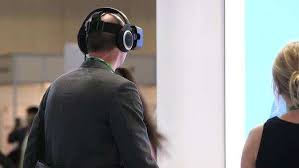oculus: (109, 23, 147, 50)
